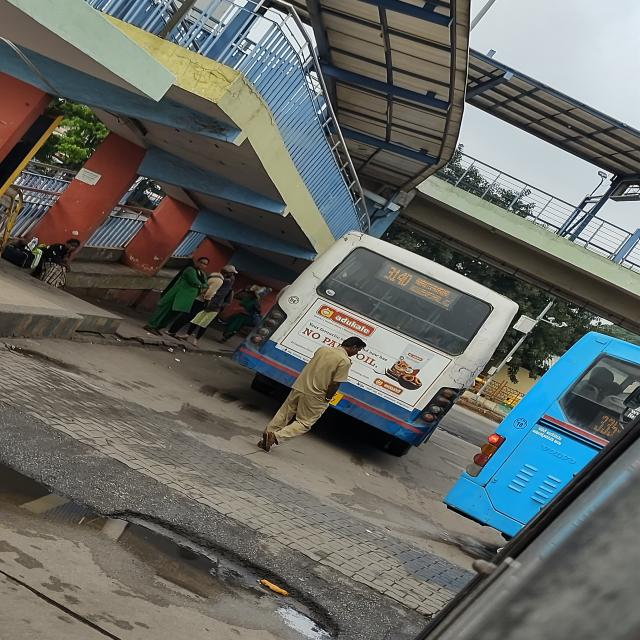bus: (228, 224, 528, 480)
display: (382, 266, 456, 307)
dnumber: (384, 267, 413, 287)
